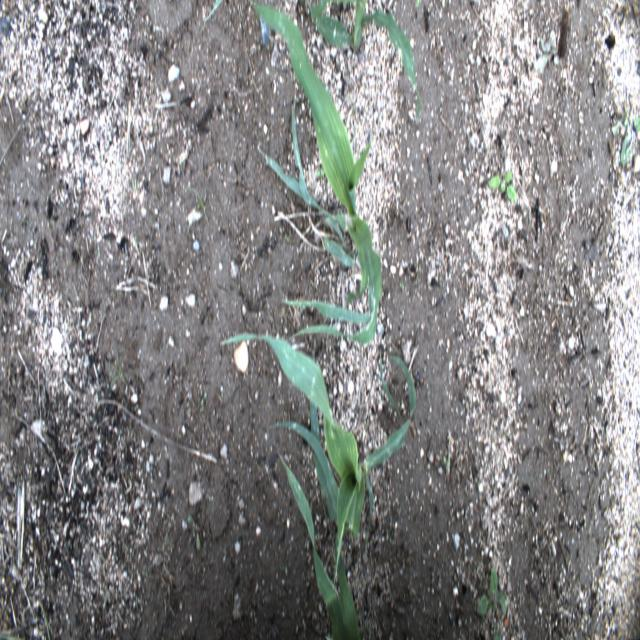crop: (223, 332, 418, 636), (254, 8, 383, 348), (312, 0, 421, 116)
weed: (476, 568, 508, 628), (608, 107, 638, 164), (487, 168, 518, 202), (191, 185, 212, 228), (184, 514, 202, 556), (105, 346, 124, 384), (542, 38, 563, 70)
